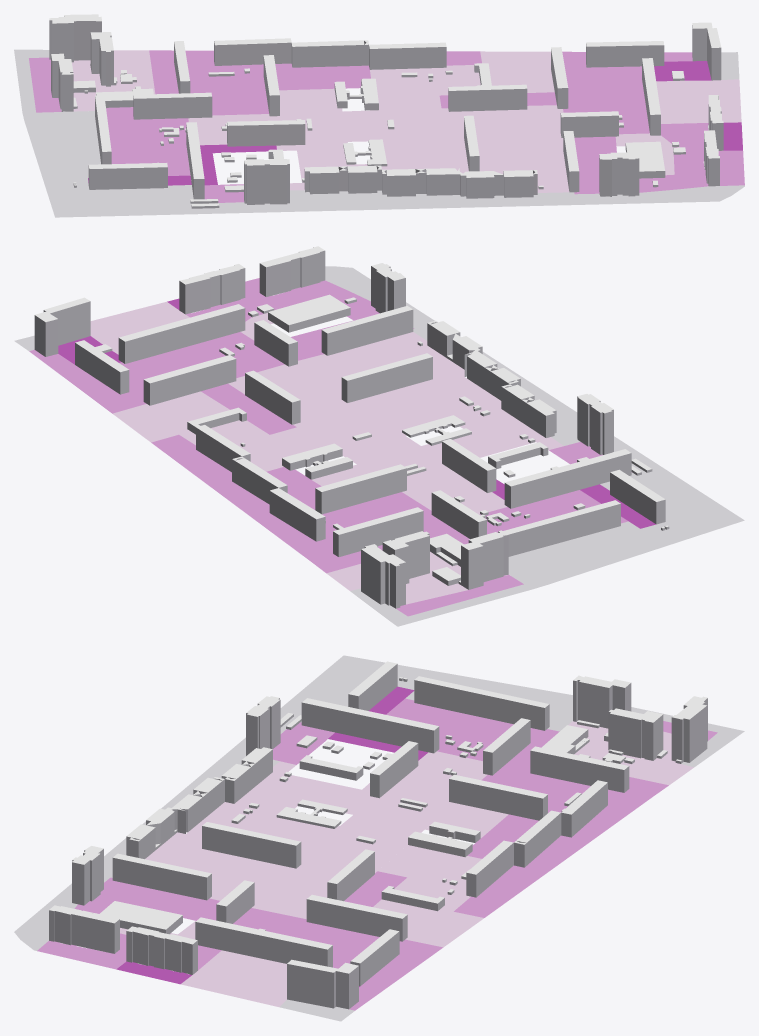
The model's file is cells_vert_v15.dae.
The picture shows the model from 3 angles, top to bottom: view 1: azimuth 30°, elevation 25°; view 2: azimuth 150°, elevation 25°; view 3: azimuth 270°, elevation 25°; orthographic projection. The views are drawn at different scales.
Parts seen in each view (by area): view 1: wall, cell_low, cell_mid, cell_out, roof, cell_high; view 2: wall, cell_low, cell_mid, roof, cell_out, cell_high; view 3: wall, cell_low, cell_mid, roof, cell_out, cell_high.
Boxes of the visible parts, left/top/right/bottom form: wall: left=49, top=16, right=723, bottom=208; cell_low: left=72, top=50, right=741, bottom=192; cell_mid: left=29, top=50, right=744, bottom=202; cell_out: left=14, top=49, right=744, bottom=217; roof: left=49, top=14, right=723, bottom=206; cell_high: left=88, top=61, right=742, bottom=185; wall: left=34, top=247, right=669, bottom=608; cell_low: left=90, top=301, right=563, bottom=604; cell_mid: left=29, top=278, right=631, bottom=616; roof: left=35, top=246, right=668, bottom=582; cell_out: left=14, top=266, right=744, bottom=626; cell_high: left=58, top=298, right=655, bottom=528; wall: left=49, top=664, right=707, bottom=1009; cell_low: left=120, top=721, right=693, bottom=1006; cell_mid: left=37, top=698, right=717, bottom=1010; roof: left=49, top=661, right=707, bottom=973; cell_out: left=14, top=655, right=744, bottom=1021; cell_high: left=116, top=686, right=427, bottom=986.
Size of the model in its own units: 923 by 779 by 51.
